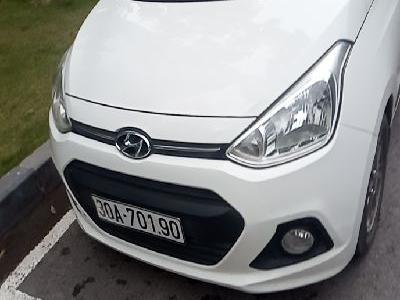car: (90, 194, 184, 244)
